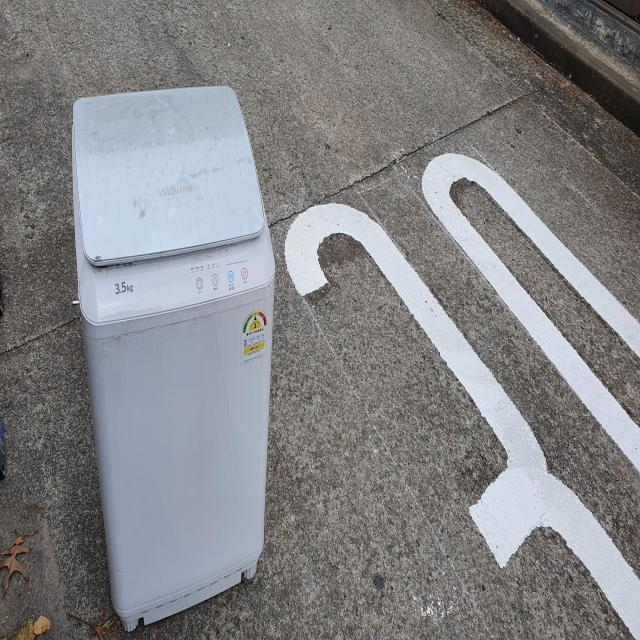refrigerator: (71, 86, 277, 629)
